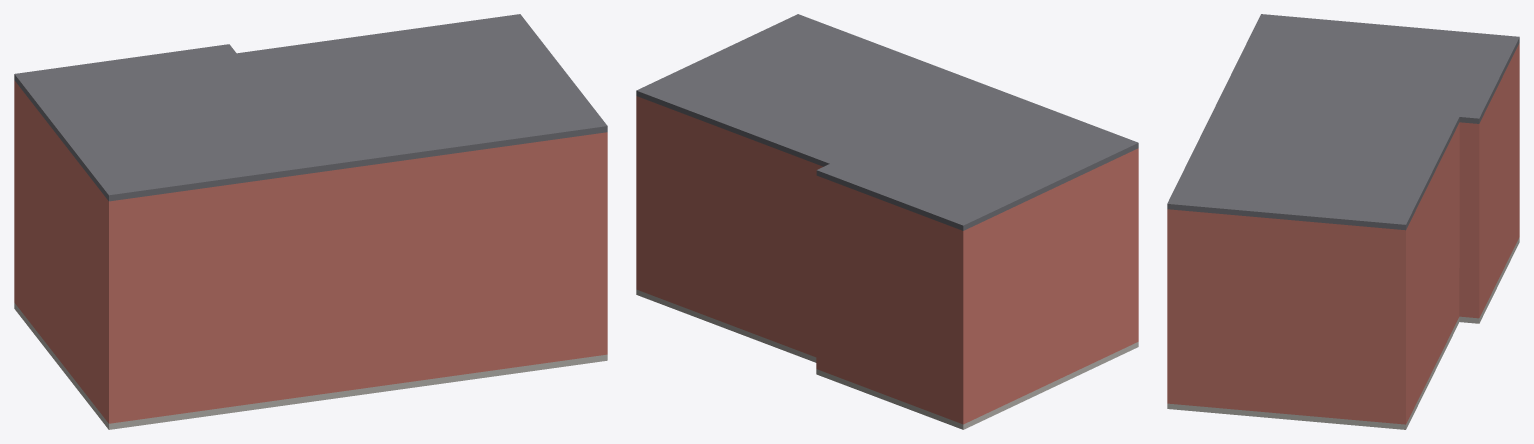
File: remington_borden.glb
3 renders of one model, left to right at view 1: azimuth 30°, elevation 25°; view 2: azimuth 150°, elevation 25°; view 3: azimuth 270°, elevation 25°, orthographic. The views are drawn at different scales.
Parts seen in each view (by area): view 1: remington_borden_walls, remington_borden_roof, remington_borden_plinth; view 2: remington_borden_walls, remington_borden_roof, remington_borden_plinth; view 3: remington_borden_walls, remington_borden_roof, remington_borden_plinth.
Boxes of the visible parts, x1=… form: remington_borden_walls: x1=14, y1=80, x2=607, y2=423; remington_borden_roof: x1=14, y1=14, x2=607, y2=201; remington_borden_plinth: x1=14, y1=303, x2=607, y2=429; remington_borden_walls: x1=636, y1=96, x2=1138, y2=424; remington_borden_roof: x1=636, y1=14, x2=1138, y2=230; remington_borden_plinth: x1=636, y1=289, x2=1138, y2=429; remington_borden_walls: x1=1167, y1=43, x2=1519, y2=424; remington_borden_roof: x1=1167, y1=14, x2=1519, y2=230; remington_borden_plinth: x1=1167, y1=237, x2=1519, y2=429.
Bounding box in the file's own units: 24.91 × 11.3 × 17.6.
